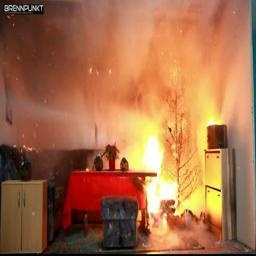fire: (123, 108, 208, 205)
